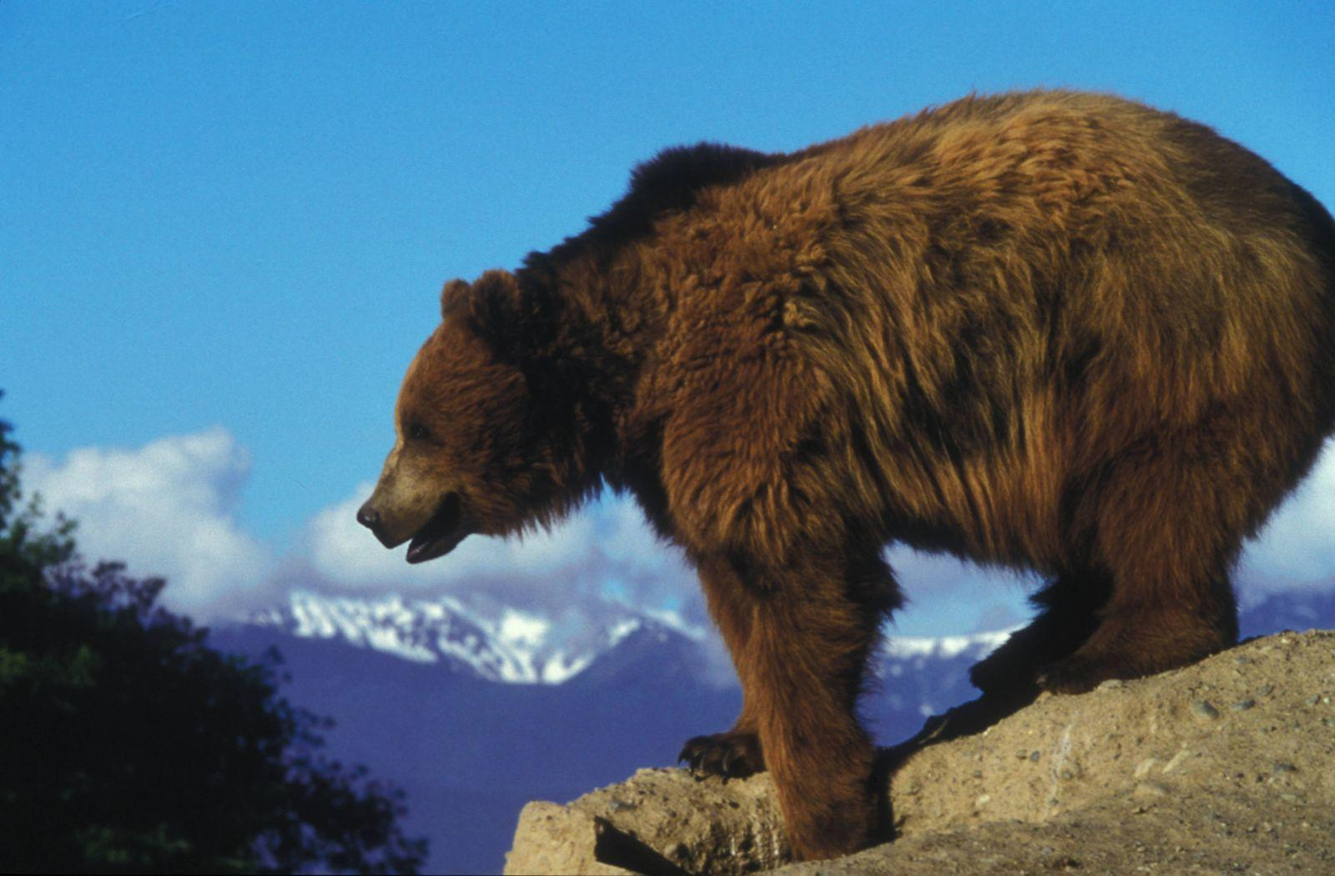ball: (357, 91, 1334, 857)
